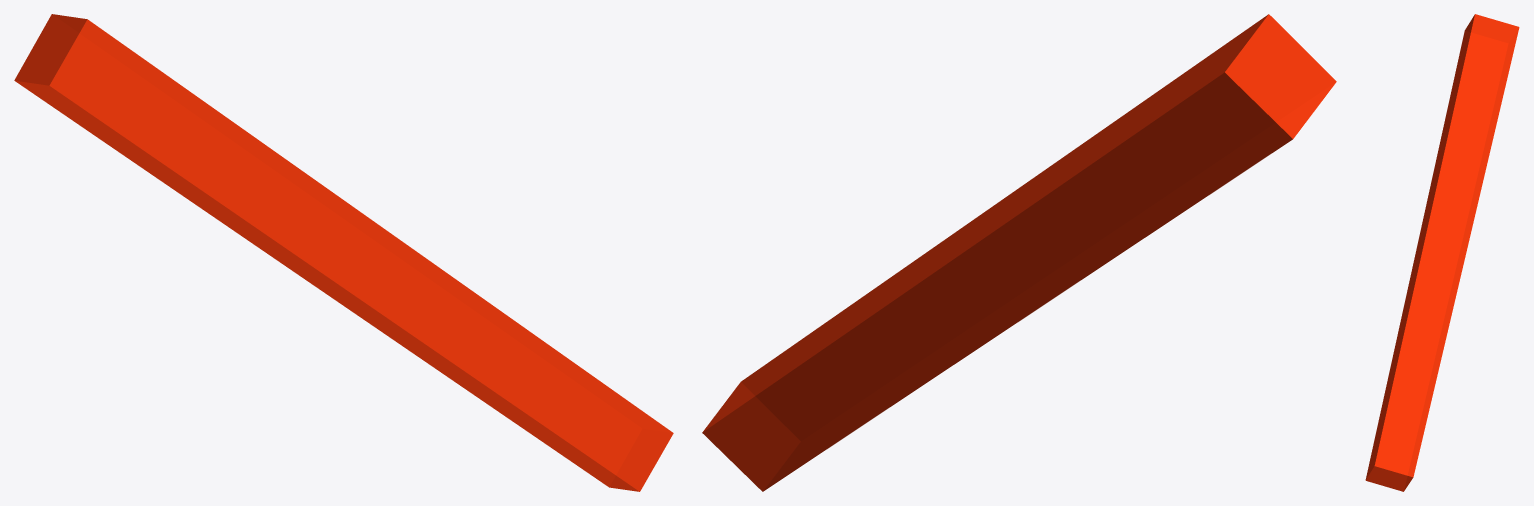
File: Event_420604493_EBrechit_5.fbx
3 renders of one model, left to right at view 1: azimuth 30°, elevation 25°; view 2: azimuth 150°, elevation 25°; view 3: azimuth 270°, elevation 25°, orthographic. The views are drawn at different scales.
Visible parts, largest first — view 1: Model; view 2: Model; view 3: Model.
Boxes of the visible parts, x1=… form: Model: x1=14, y1=14, x2=673, y2=491; Model: x1=702, y1=14, x2=1336, y2=491; Model: x1=1365, y1=14, x2=1519, y2=491.
Bounding box in the file's own units: 0.5453 × 0.5096 × 0.2113.
